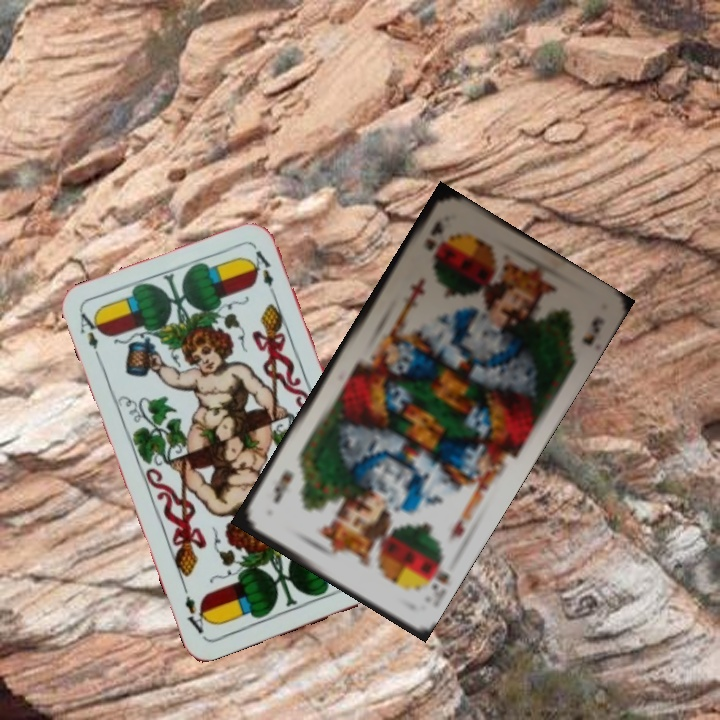EA: (75, 309, 106, 365)
SK: (415, 552, 453, 596), (420, 215, 446, 253)
